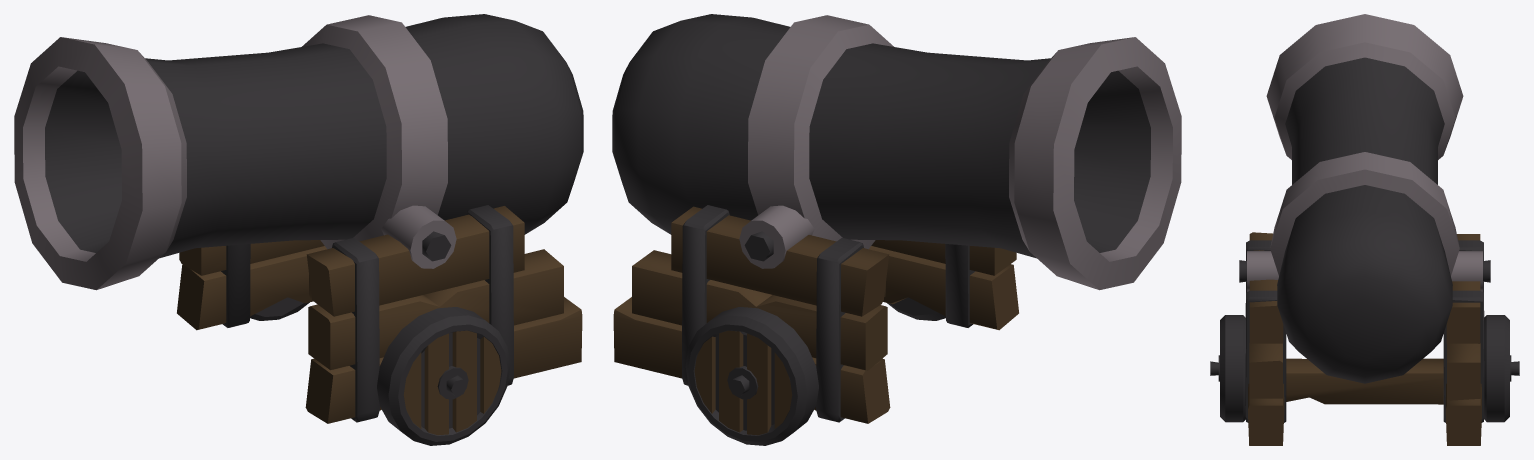
The model's file is cannon.glb.
3 renders of one model, left to right at view 1: azimuth 30°, elevation 25°; view 2: azimuth 150°, elevation 25°; view 3: azimuth 270°, elevation 25°, orthographic. The views are drawn at different scales.
Parts seen in each view (by area): view 1: Prop_Cannon; view 2: Prop_Cannon; view 3: Prop_Cannon.
Part boxes in pixels (x1=…): Prop_Cannon: x1=14, y1=14, x2=583, y2=445; Prop_Cannon: x1=612, y1=14, x2=1181, y2=445; Prop_Cannon: x1=1210, y1=14, x2=1519, y2=445.
Bounding box in the file's own units: 1.48 × 1.13 × 1.04.
